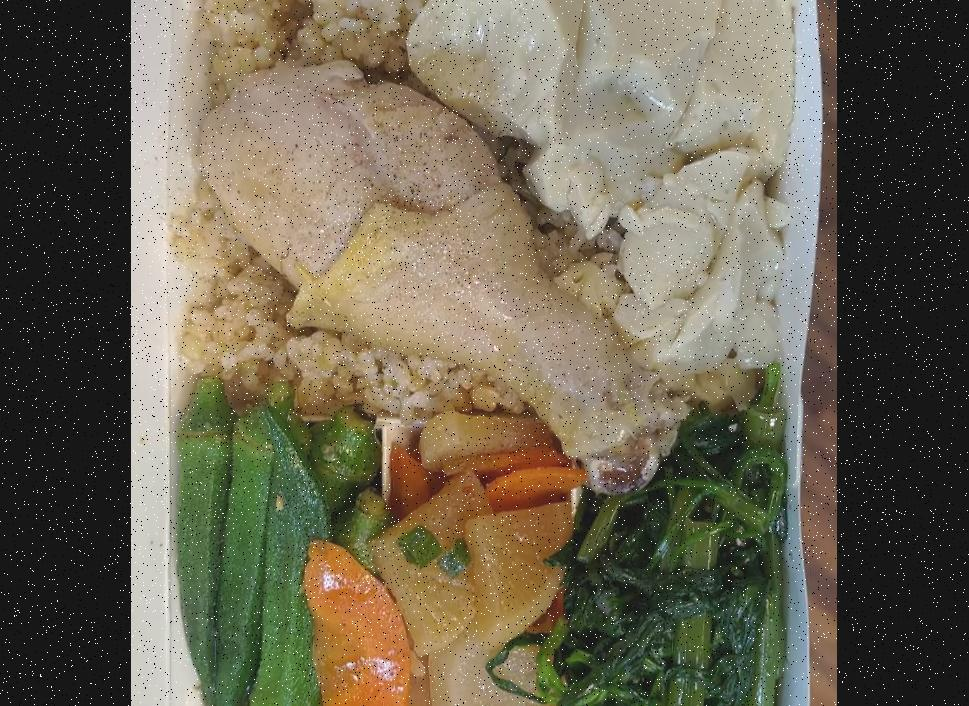big grilled chicken leg: (176, 0, 823, 706)
box: (196, 0, 650, 414)
braised fish fillet: (413, 0, 787, 371), (312, 410, 573, 706), (539, 395, 786, 706), (180, 374, 382, 706)
braised pork: (195, 52, 685, 492)
